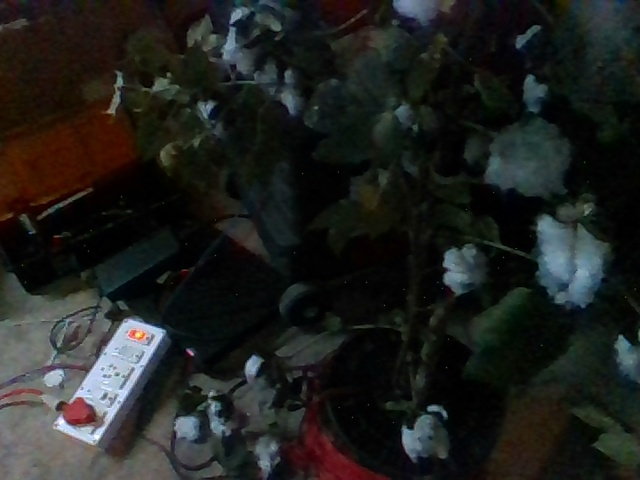cotton: (530, 194, 616, 310), (474, 119, 577, 198), (399, 404, 457, 463), (440, 243, 490, 296), (614, 333, 640, 379)
